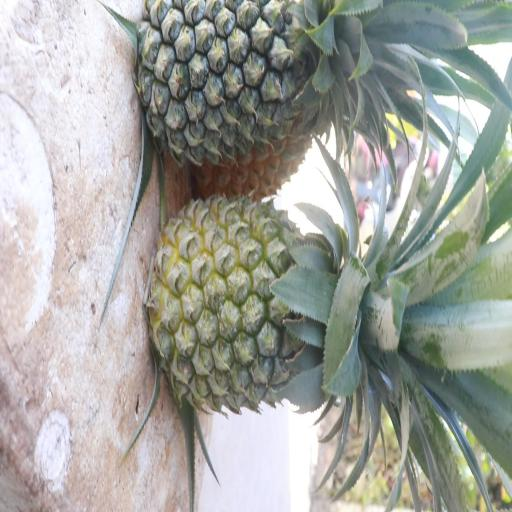------------------------------: (142, 188, 439, 422)
